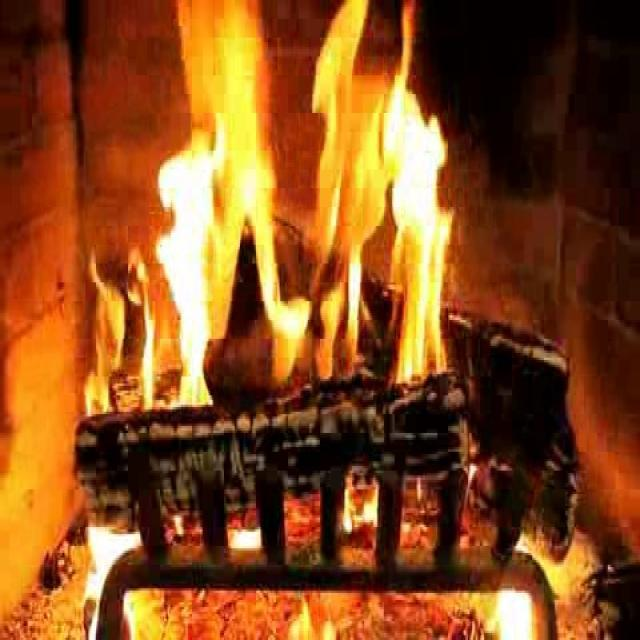Fire: (152, 5, 439, 420)
